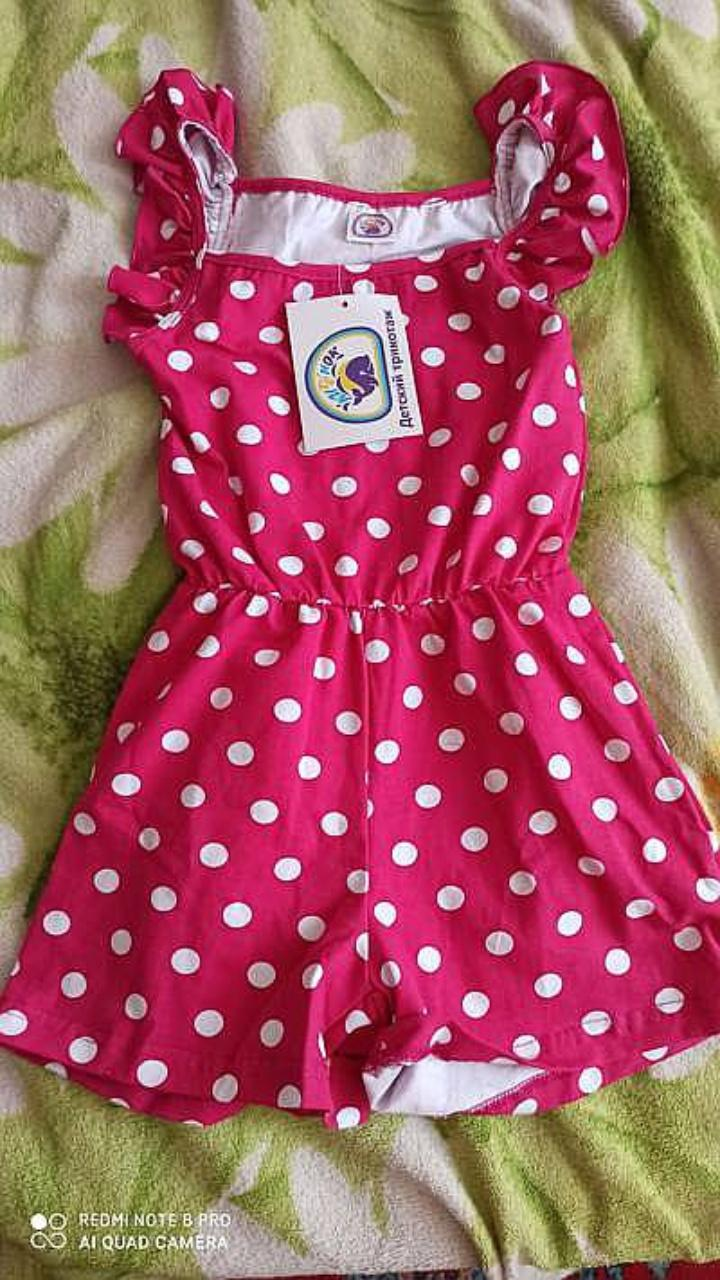Dresses: (0, 61, 719, 1126)
